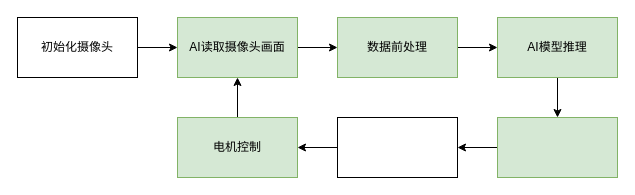
Image size: 635x195. Some labels were removed from this diagram. Each missing label, with the box of its shape:
数据后处理: (496, 116, 618, 178)
调用电机控制策略: (336, 116, 458, 178)
